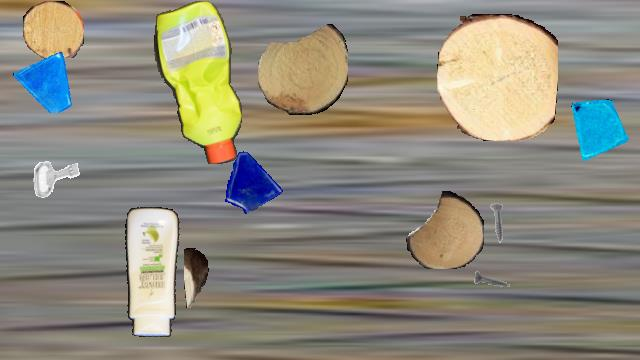glass: (219, 148, 285, 214), (568, 99, 632, 163), (13, 50, 75, 112)
metal: (25, 148, 85, 208), (473, 258, 515, 300), (477, 202, 519, 244)
plastic: (153, 1, 243, 163), (118, 207, 182, 337)
wood: (437, 14, 557, 140), (258, 23, 348, 115), (406, 191, 484, 269), (23, 1, 83, 59), (184, 248, 208, 308)
